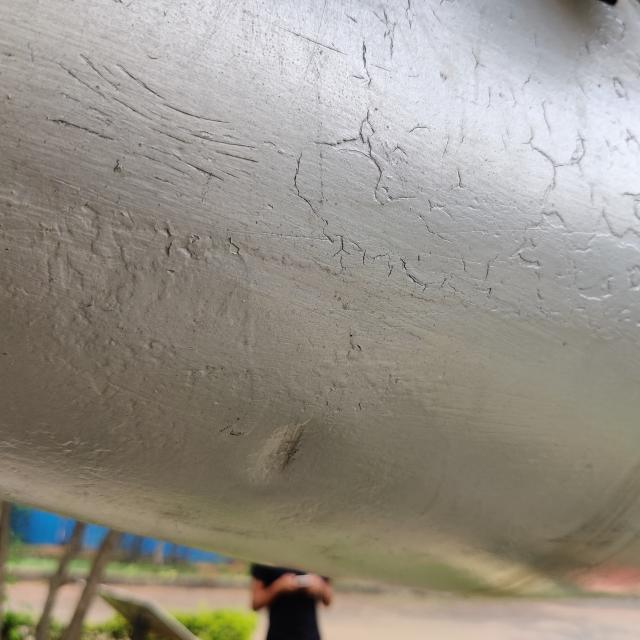dent: (222, 395, 337, 508)
